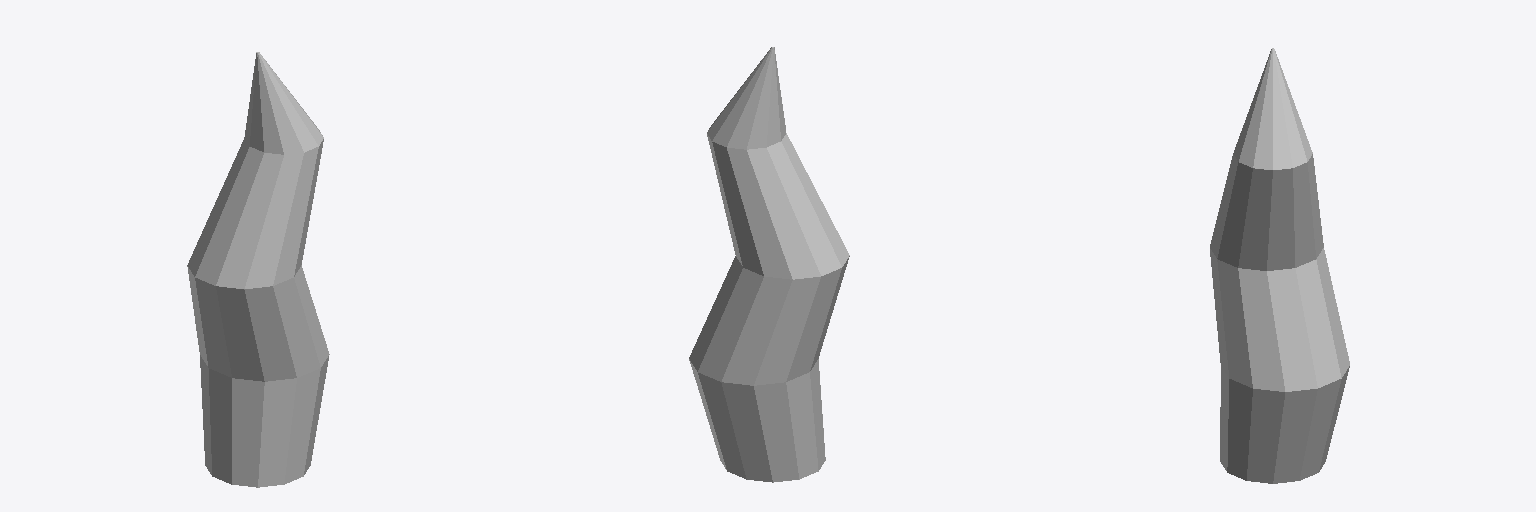
The model's file is Flame.obj.
The picture shows the model from 3 angles: view 1: azimuth 30°, elevation 25°; view 2: azimuth 150°, elevation 25°; view 3: azimuth 270°, elevation 25°; orthographic projection.
Parts seen in each view (by area): view 1: Torch_light.007; view 2: Torch_light.007; view 3: Torch_light.007.
Part boxes in pixels (bbox=[...]): Torch_light.007: bbox=[187, 52, 329, 487]; Torch_light.007: bbox=[689, 47, 849, 482]; Torch_light.007: bbox=[1210, 48, 1349, 483].
Bounding box in the file's own units: 0.4261 × 1.24 × 0.3838.